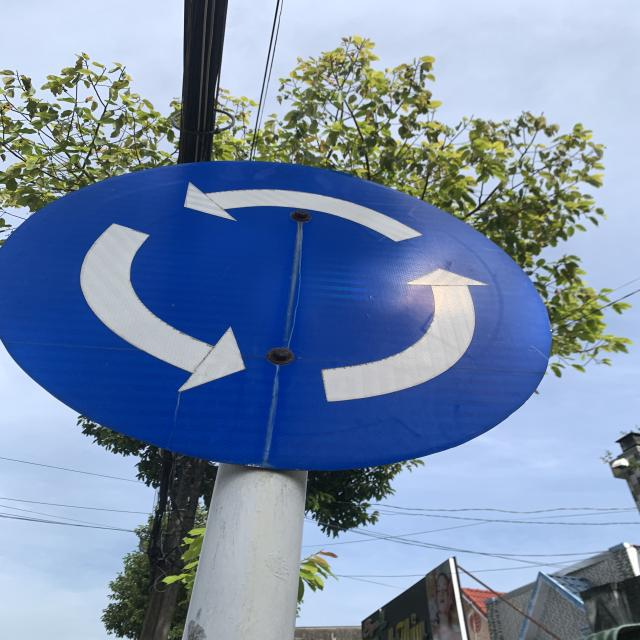Xe_Bus: (0, 158, 561, 475)
